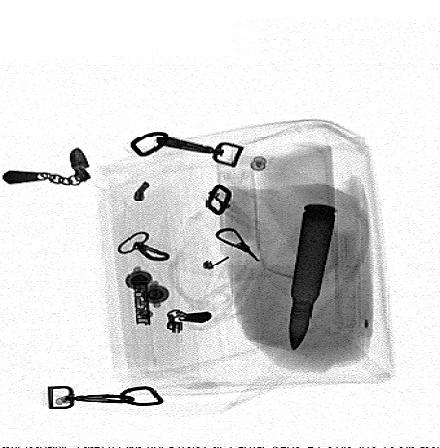Bullet: (288, 203, 338, 353)
